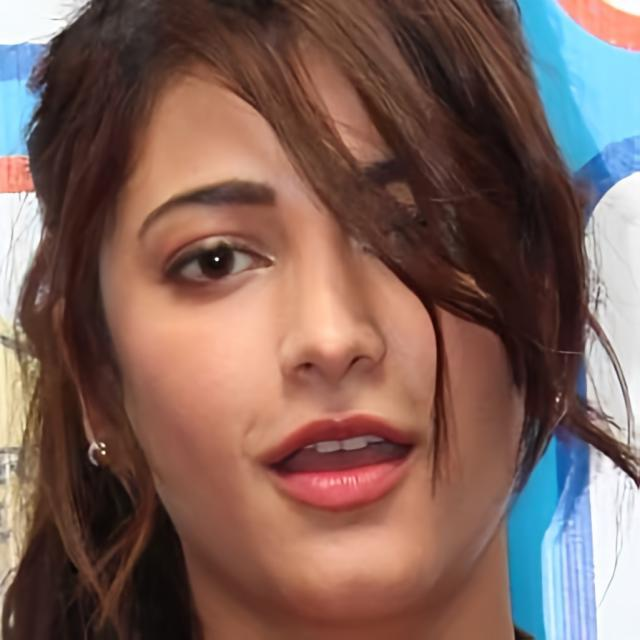surprise: (103, 30, 533, 625)
